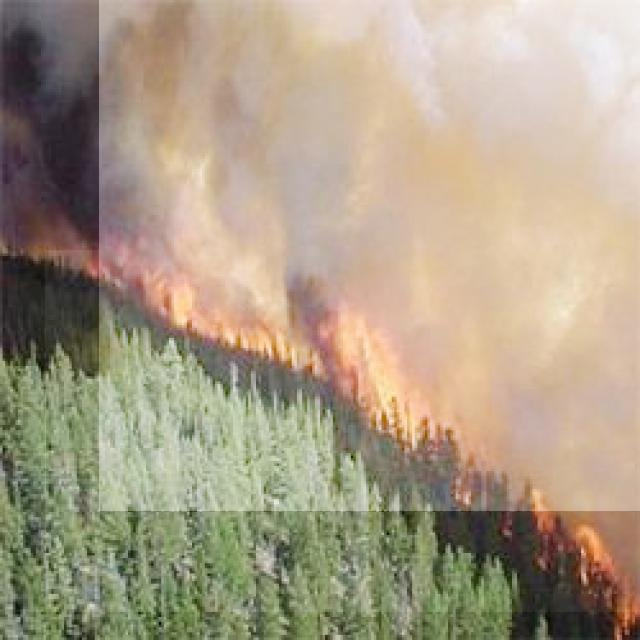Fire: (45, 250, 640, 612)
Smoke: (99, 0, 640, 511)
